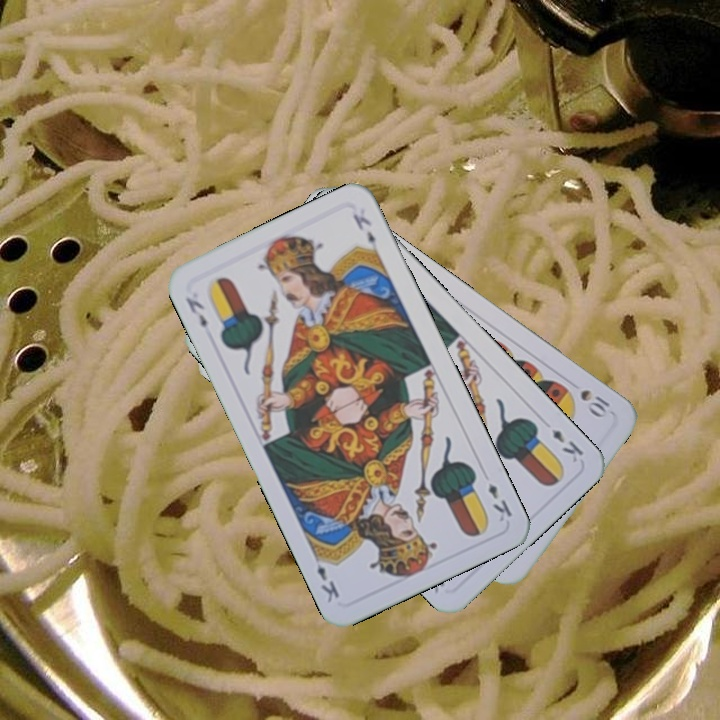EK: (547, 425, 586, 465), (483, 479, 515, 525), (181, 293, 210, 331)
S10: (576, 385, 613, 421)
